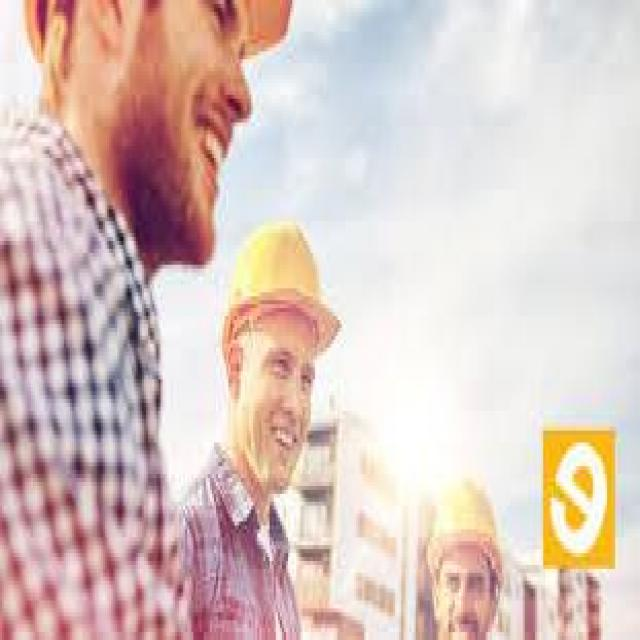Safety-Helmet: (214, 202, 342, 364), (410, 447, 522, 592)
